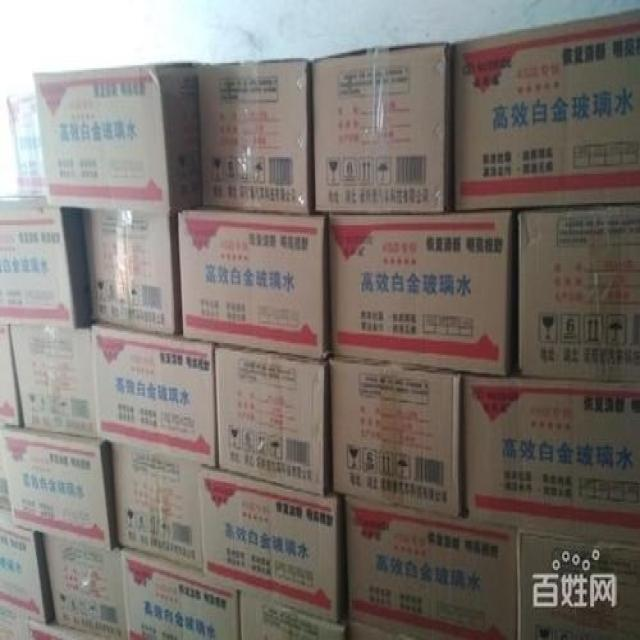box: (453, 7, 640, 210), (463, 372, 640, 546), (329, 212, 509, 375), (33, 63, 202, 213), (347, 495, 517, 640), (312, 43, 447, 213), (198, 466, 340, 625), (178, 210, 324, 362), (518, 205, 640, 381), (330, 357, 461, 515), (91, 324, 215, 469), (197, 58, 308, 215), (215, 346, 324, 497), (517, 524, 640, 640), (3, 428, 111, 551), (110, 442, 204, 572), (81, 207, 175, 335), (0, 207, 91, 329), (122, 550, 238, 640), (9, 326, 96, 437), (42, 532, 128, 640), (239, 592, 344, 640), (0, 522, 46, 625), (8, 89, 45, 196), (348, 621, 412, 640)
